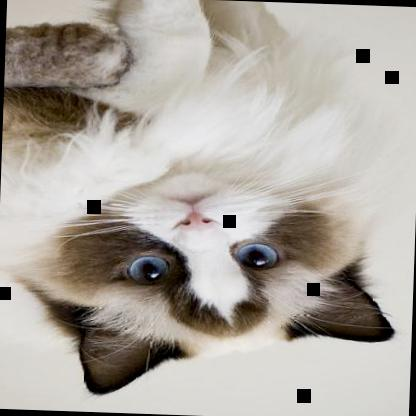cat: (0, 0, 409, 407)
